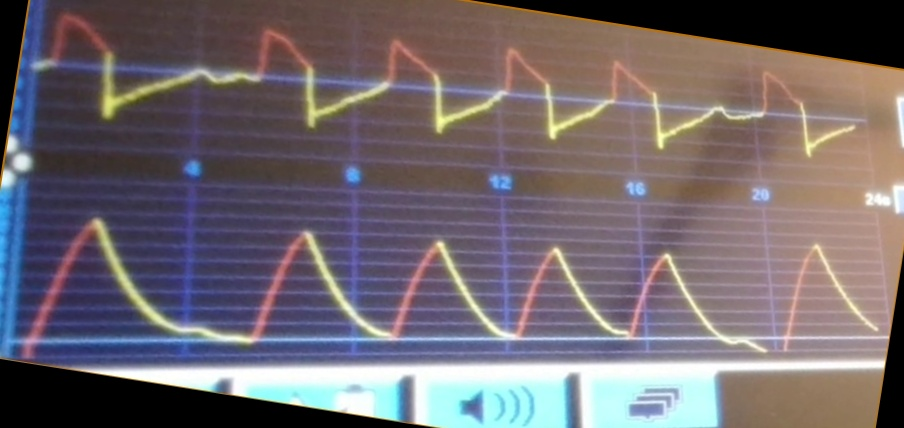Ineffective_effort Flow: (43, 12, 852, 158)
Ineffective_effort Volume: (25, 213, 877, 356)
